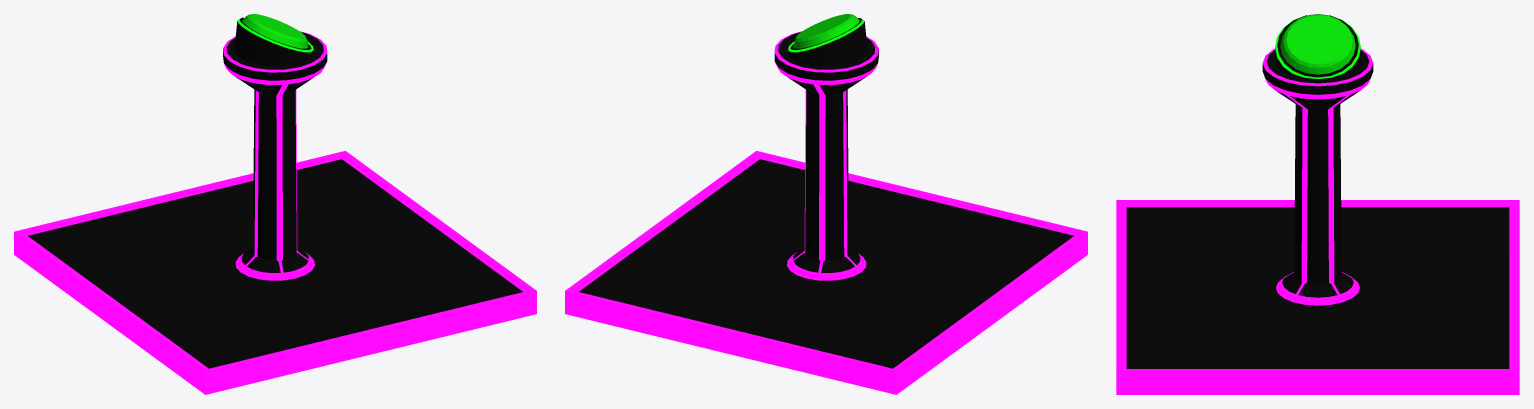
The model's file is Botao_Runtime_Verd_R00.fbx.
3 renders of one model, left to right at view 1: azimuth 30°, elevation 25°; view 2: azimuth 150°, elevation 25°; view 3: azimuth 270°, elevation 25°, orthographic. The views are drawn at different scales.
Parts seen in each view (by area): view 1: Chao_R00:pCube1, pCylinder1; view 2: Chao_R00:pCube1, pCylinder1; view 3: Chao_R00:pCube1, pCylinder1.
Part boxes in pixels (<box>): Chao_R00:pCube1: <box>14,151,536,394</box>; pCylinder1: <box>223,14,327,280</box>; Chao_R00:pCube1: <box>565,151,1087,394</box>; pCylinder1: <box>774,14,878,280</box>; Chao_R00:pCube1: <box>1116,200,1519,394</box>; pCylinder1: <box>1262,14,1373,305</box>.
Size of the model in its own units: 1.03 by 0.8027 by 1.03.
